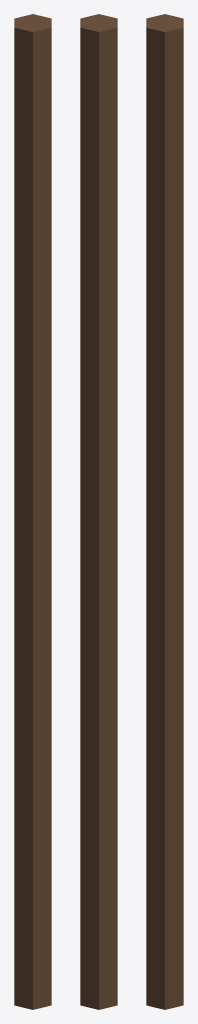
File: SM_Prop_DownPipe_Straight_01.glb
3 views of the same model, side by side, from view 1: azimuth 90°, elevation 25°; view 2: azimuth 150°, elevation 25°; view 3: azimuth 270°, elevation 25° (orthographic).
Parts seen in each view (by area): view 1: SM_Prop_DownPipe_Straight_01; view 2: SM_Prop_DownPipe_Straight_01; view 3: SM_Prop_DownPipe_Straight_01.
Boxes of the visible parts, left/top/right/bottom form: SM_Prop_DownPipe_Straight_01: left=14, top=14, right=51, bottom=1009; SM_Prop_DownPipe_Straight_01: left=80, top=14, right=117, bottom=1009; SM_Prop_DownPipe_Straight_01: left=146, top=14, right=183, bottom=1009.
Bounding box in the file's own units: 0.2 × 5 × 0.1732.
1 material, 1 textured.
